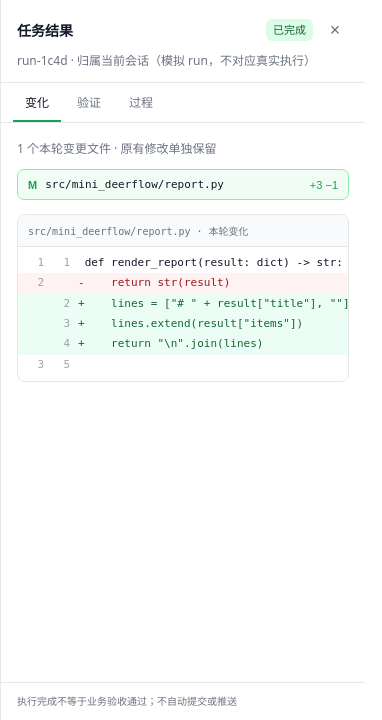
Test: TaskInspector 验证页签 › 执行完成但验证未运行：显示「未运行」，不显示测试通过
Expected: the text with test id "task-status-pill" reads "已完成", [273, 22, 306, 37]
Click the tab "验证" at [89, 102], box [65, 83, 113, 122]
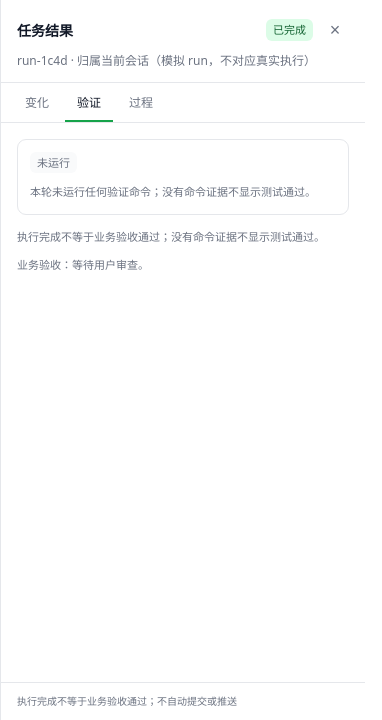
Result: the text with test id "validation-pill" reads "未运行" at [37, 155, 70, 170]
Result: the text "执行完成不等于业务验收通过；没有命令证据不显示测试通过。" is shown at [17, 227, 349, 247]
